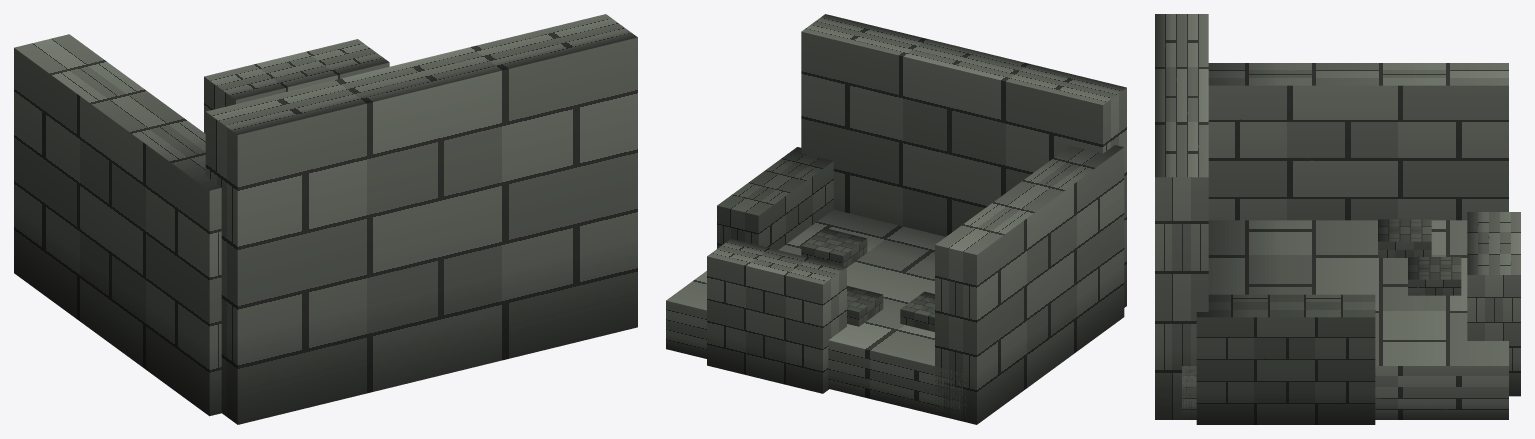
File: ruined_house.glb
The picture shows the model from 3 angles, left to right: view 1: azimuth 30°, elevation 25°; view 2: azimuth 150°, elevation 25°; view 3: azimuth 270°, elevation 25°; orthographic projection. The views are drawn at different scales.
Visible parts, largest first — view 1: ruined_house; view 2: ruined_house; view 3: ruined_house.
Boxes of the visible parts, x1,y1,x2,y2 form: ruined_house: [14, 14, 637, 424]; ruined_house: [666, 14, 1126, 424]; ruined_house: [1155, 14, 1520, 424].
Size of the model in its own units: 1.38 by 0.905 by 1.23.
Materials: 1 (1 with a texture image).
